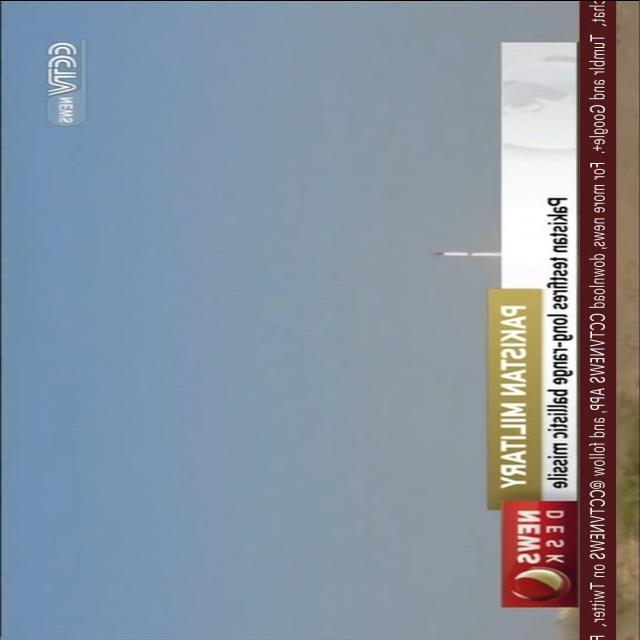Missile: (424, 246, 500, 259)
